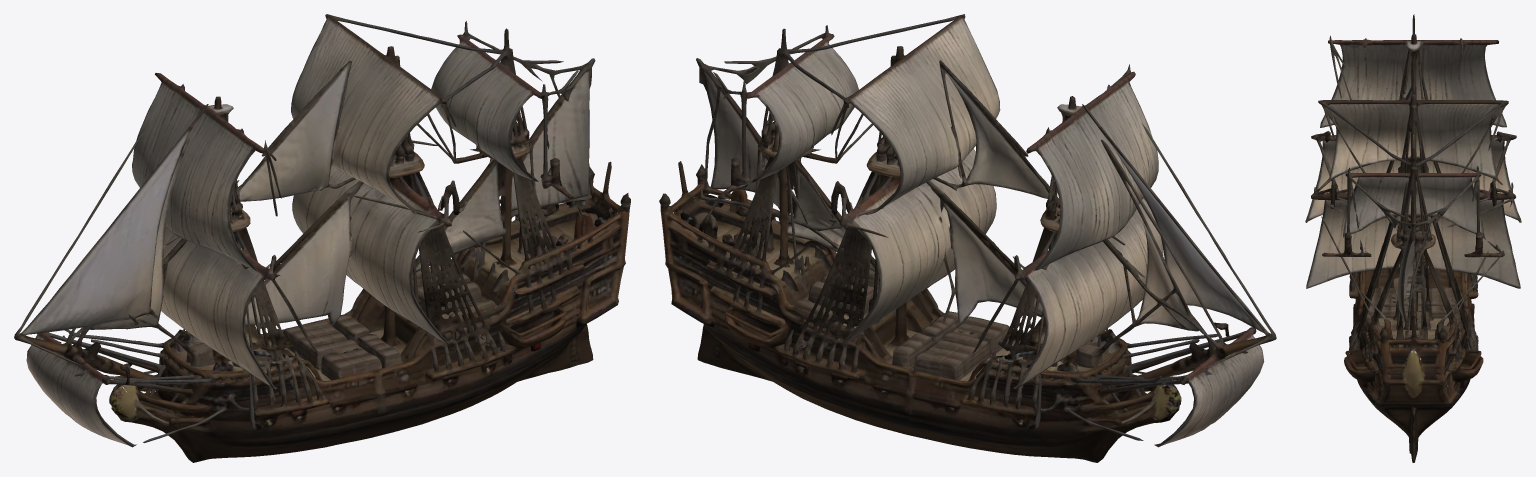
Rendered from Merchant Ship.glb.
3 renders of one model, left to right at view 1: azimuth 30°, elevation 25°; view 2: azimuth 150°, elevation 25°; view 3: azimuth 270°, elevation 25°, orthographic. The views are drawn at different scales.
Parts seen in each view (by area): view 1: geometry_0; view 2: geometry_0; view 3: geometry_0.
Part boxes in pixels (left/top/right/bottom): geometry_0: left=14, top=14, right=630, bottom=462; geometry_0: left=659, top=14, right=1276, bottom=462; geometry_0: left=1305, top=14, right=1521, bottom=462.
Bounding box in the file's own units: 1 × 0.5906 × 0.3942.
Materials: 1 (1 with a texture image).
